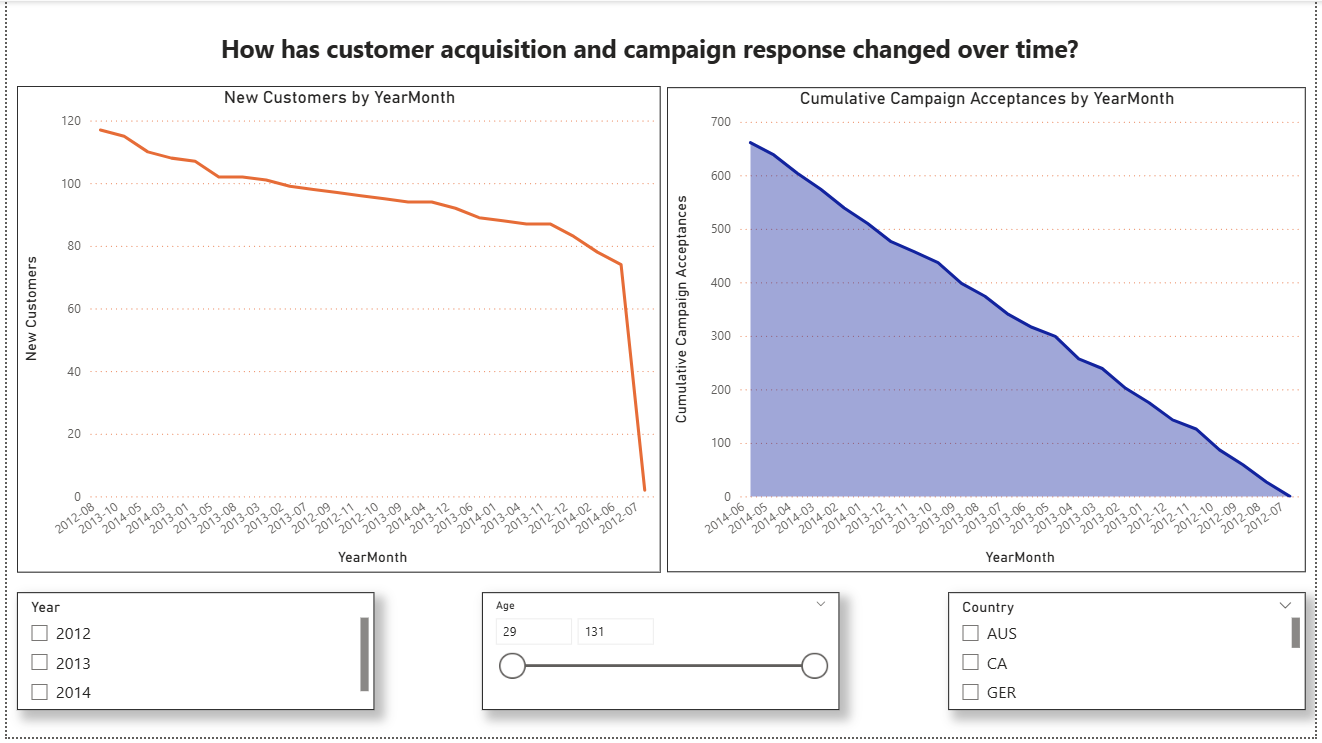

Layout of this report page (visuals, bound fields, positions):
{"tool":"powerbi","page":{"name":"Page 6","canvas":[1280,720],"ordinal":5},"visuals":[{"type":"textbox","box":[9.8,25.7,1237.5,57.5],"z":0},{"type":"lineChart","fields":{"Y":["marketing_data.New Customers"],"Category":["DateTable.YearMonth"]},"box":[9.8,83.2,629.8,475.7],"z":1000},{"type":"areaChart","fields":{"Category":["DateTable.YearMonth"],"Y":["marketing_data.Cumulative Campaign Acceptances"]},"box":[645.7,84.4,624.9,474.5],"z":2000},{"type":"slicer","fields":{"Values":["DateTable.Year"]},"box":[9.8,578.4,349.7,114.9],"z":3000},{"type":"slicer","fields":{"Values":["marketing_data.Age"]},"box":[464.7,578.4,349.7,114.9],"z":4000},{"type":"slicer","fields":{"Values":["marketing_data.Country"]},"box":[920.8,578.4,349.7,114.9],"z":5000}]}

Visuals, with their boxes in screenshot pixels (x1, y1, x2, y2), scaled from the page's 1280x720 canvas onto the 1322x743 screenshot:
textbox: region(10, 27, 1288, 86)
lineChart - marketing_data.New Customers x DateTable.YearMonth: region(10, 86, 661, 577)
areaChart - DateTable.YearMonth x marketing_data.Cumulative Campaign Acceptances: region(667, 87, 1312, 577)
slicer - DateTable.Year: region(10, 597, 371, 715)
slicer - marketing_data.Age: region(480, 597, 841, 715)
slicer - marketing_data.Country: region(951, 597, 1312, 715)
